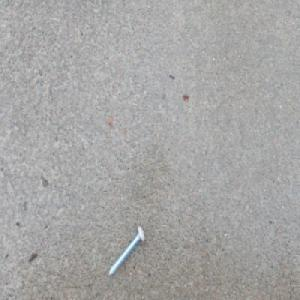Nail: (107, 224, 145, 278)
